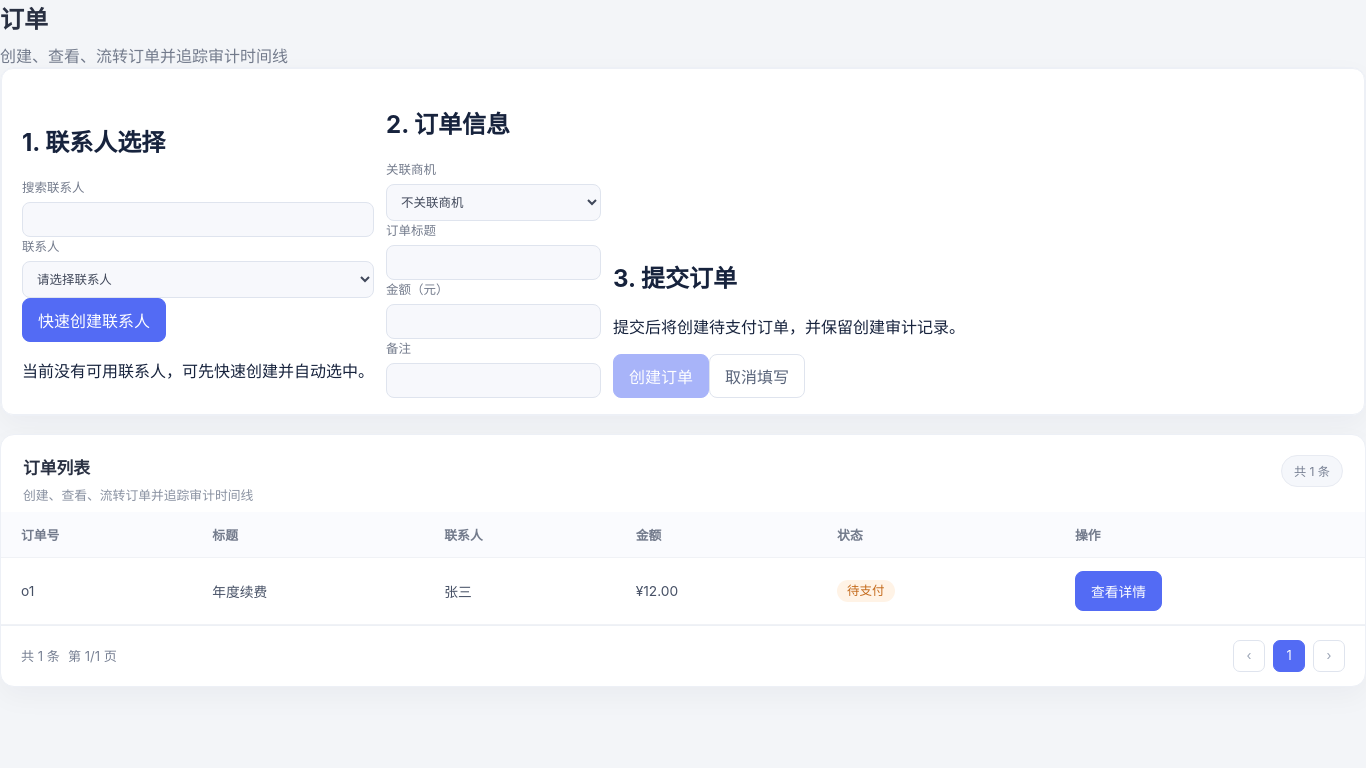
renders contact name, order fields, and a localized audit timeline
Check: the text "张三" is shown, box [424,557,616,624]
Click the button "查看详情". click: (1118, 591)
box: [1075,571,1162,611]
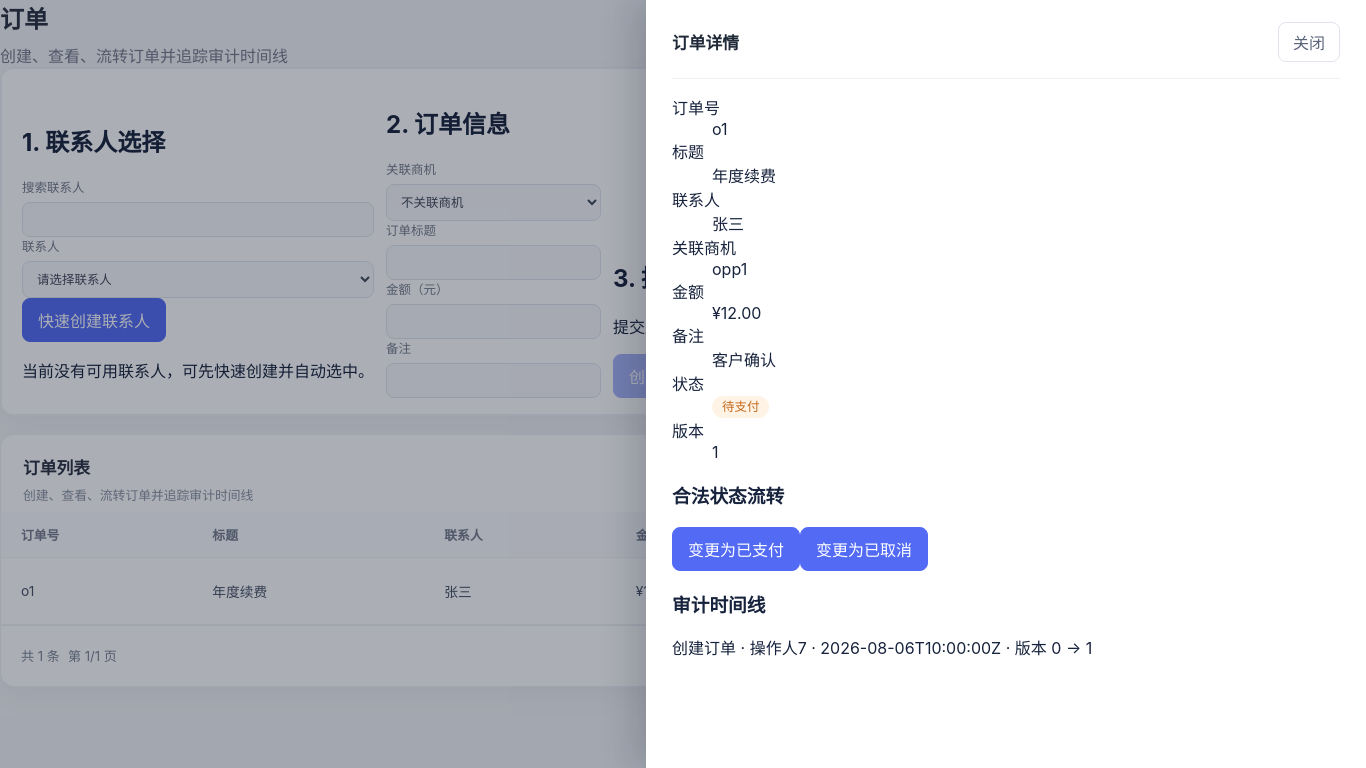
Check: the text "客户确认" is shown, box [712,350,776,370]
Check: the text "创建订单 · 操作人7 · 2026-08-06T10:00:00Z · 版本 0 → 1" is shown, box [672,638,1092,658]
